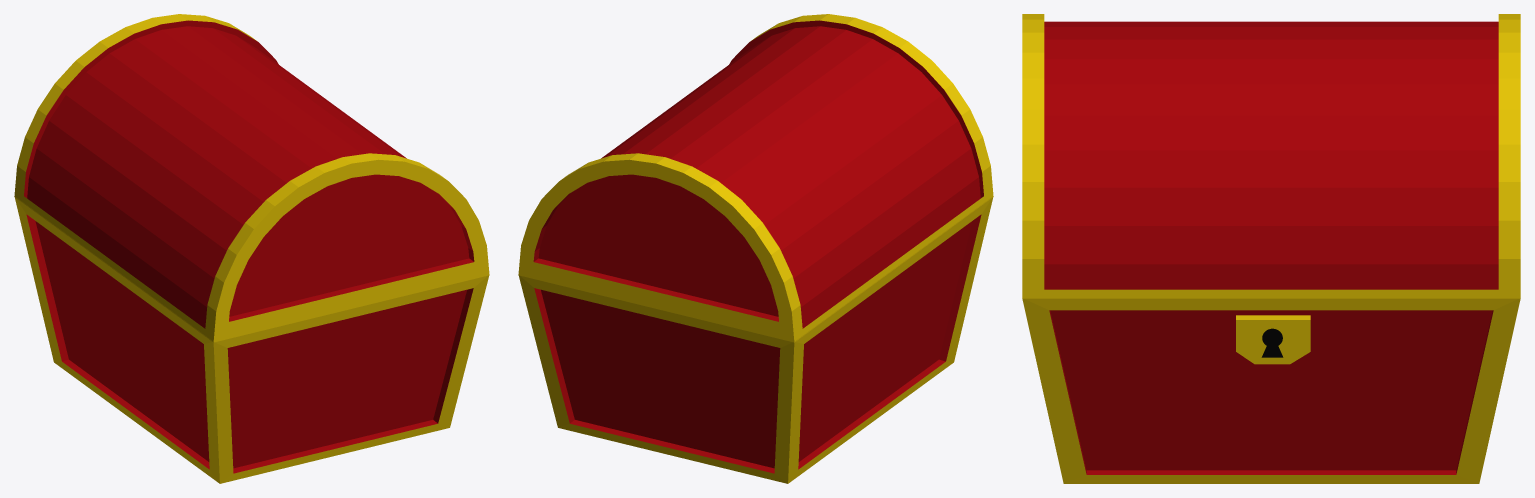
The model's file is tresureBox.fbx.
3 views of the same model, side by side, from view 1: azimuth 30°, elevation 25°; view 2: azimuth 150°, elevation 25°; view 3: azimuth 270°, elevation 25° (orthographic). The views are drawn at different scales.
Parts seen in each view (by area): view 1: huta, box; view 2: huta, box; view 3: huta, box, key.
Boxes of the visible parts, <box> form: huta: <box>14,14,489,342</box>; box: <box>14,196,489,483</box>; huta: <box>518,14,993,342</box>; box: <box>518,196,993,483</box>; huta: <box>1022,14,1520,298</box>; box: <box>1022,298,1520,483</box>; key: <box>1236,315,1310,364</box>.
Size of the model in its own units: 160 by 169 by 200.
